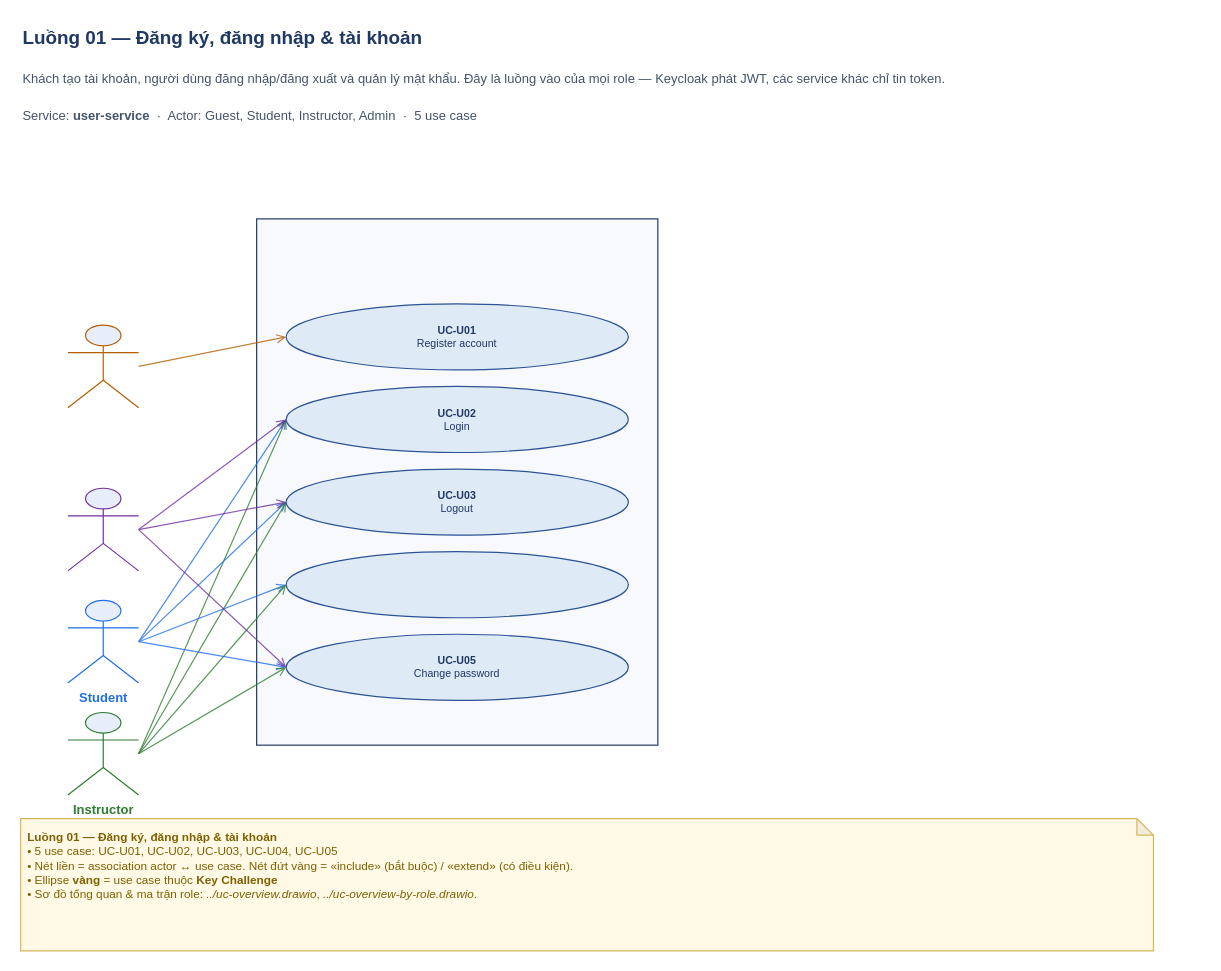
Some shapes in this 1221 by 971 pixel diagram are drawn without their labels. The box of each missing label's shape, as (x1, y1, x2, y2) in pixels:
Admin: (67, 487, 139, 571)
Guest: (67, 324, 139, 408)
UC-U04 Reset password: (285, 550, 628, 618)
«system» user-service: (255, 218, 658, 745)
